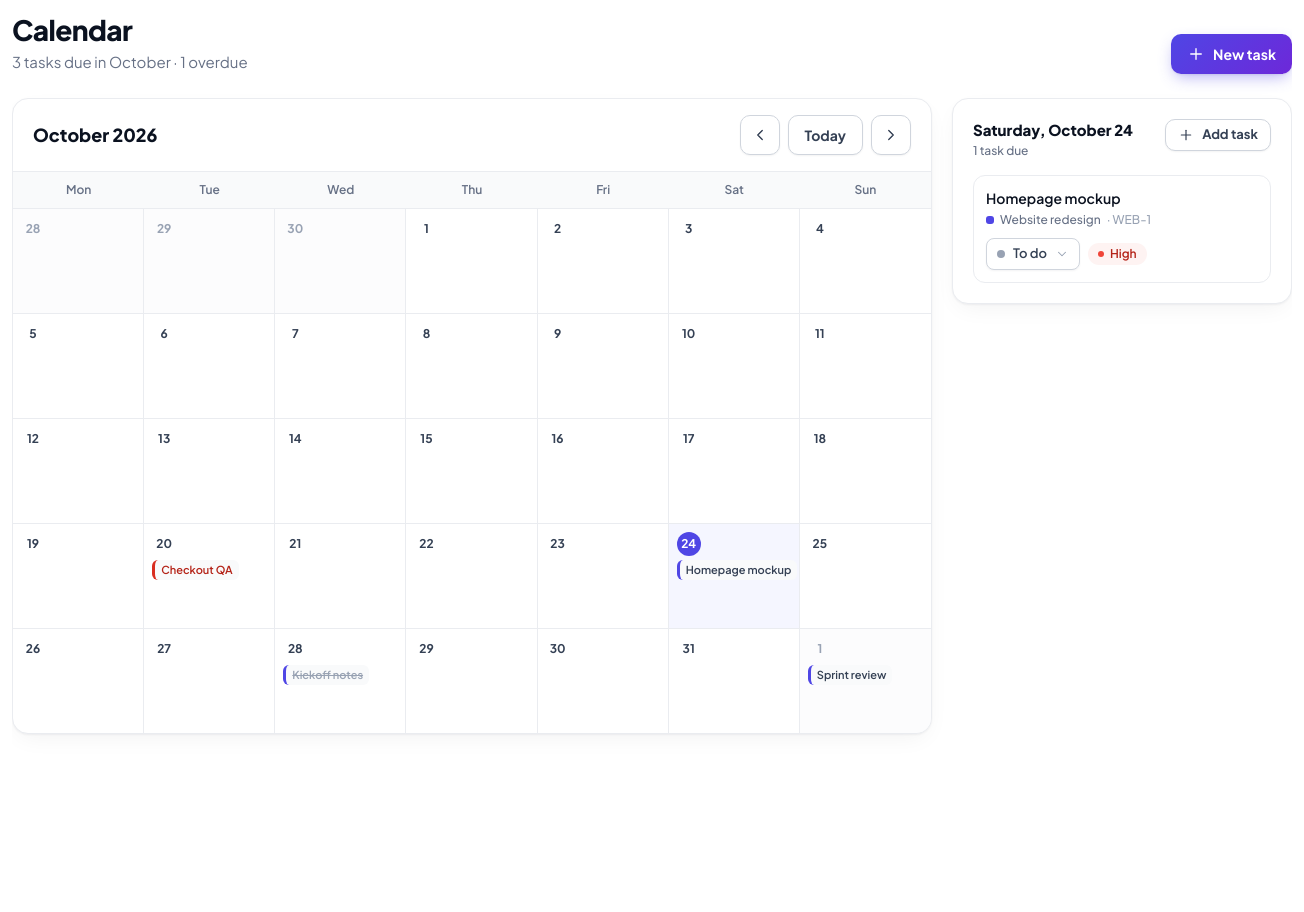
Calendar page › says when nothing is due on the selected day
The image size is (1304, 912).
Expected: the text "3 tasks due in October · 1 overdue" is shown, [12, 51, 248, 74]
Click the button named "Thursday, October 15, no tasks" at (472, 470), box [406, 418, 538, 522]
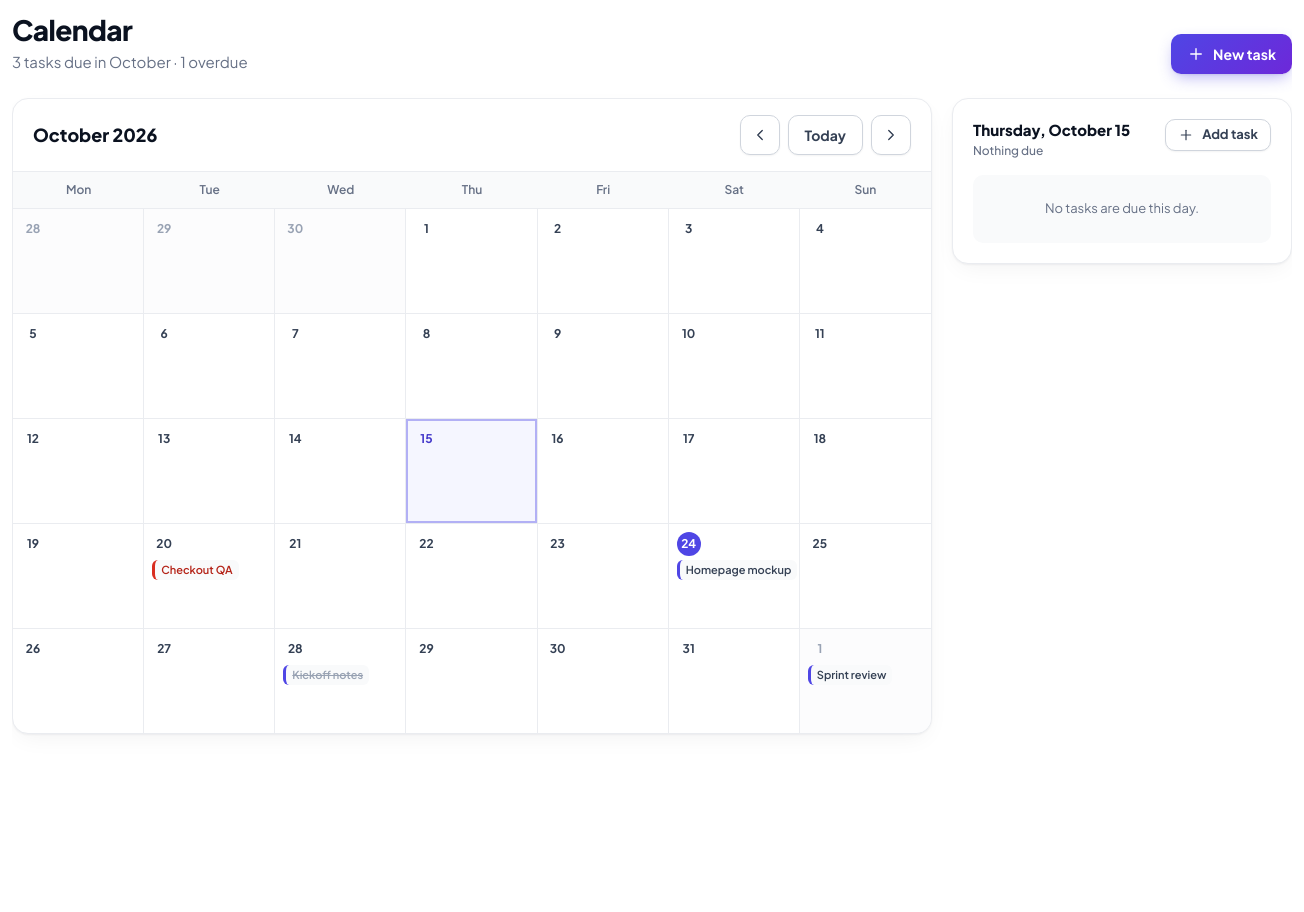
Expected: the text "No tasks are due this day." is shown, [973, 175, 1271, 242]
